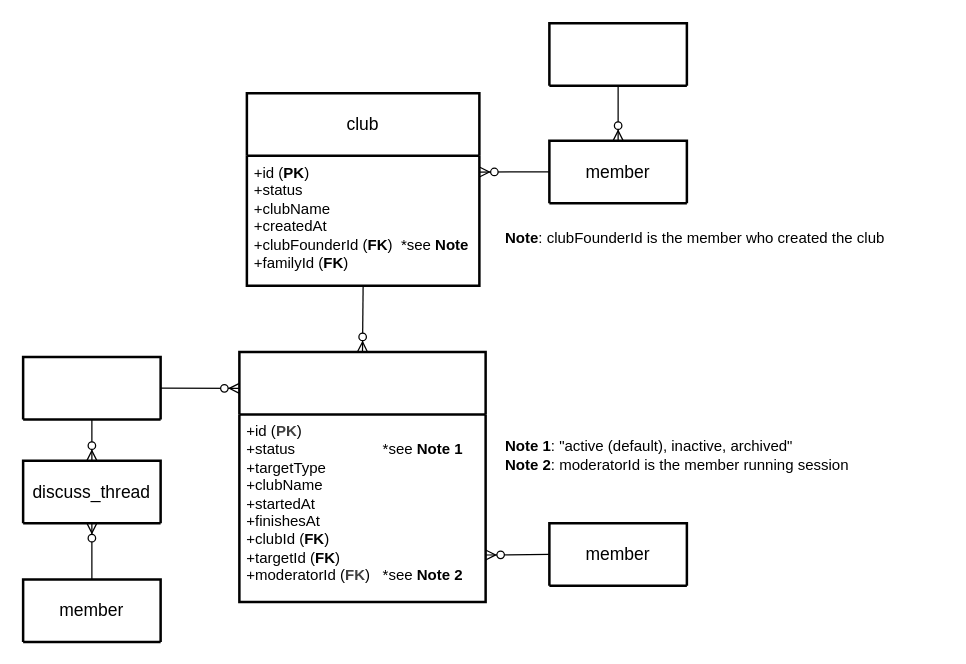
Image size: 966x664. Some labels were removed from this diagram. Each missing label, with the box of its shape:
book-poem: (21, 355, 161, 420)
club_session: (238, 350, 486, 602)
family: (548, 21, 688, 86)
